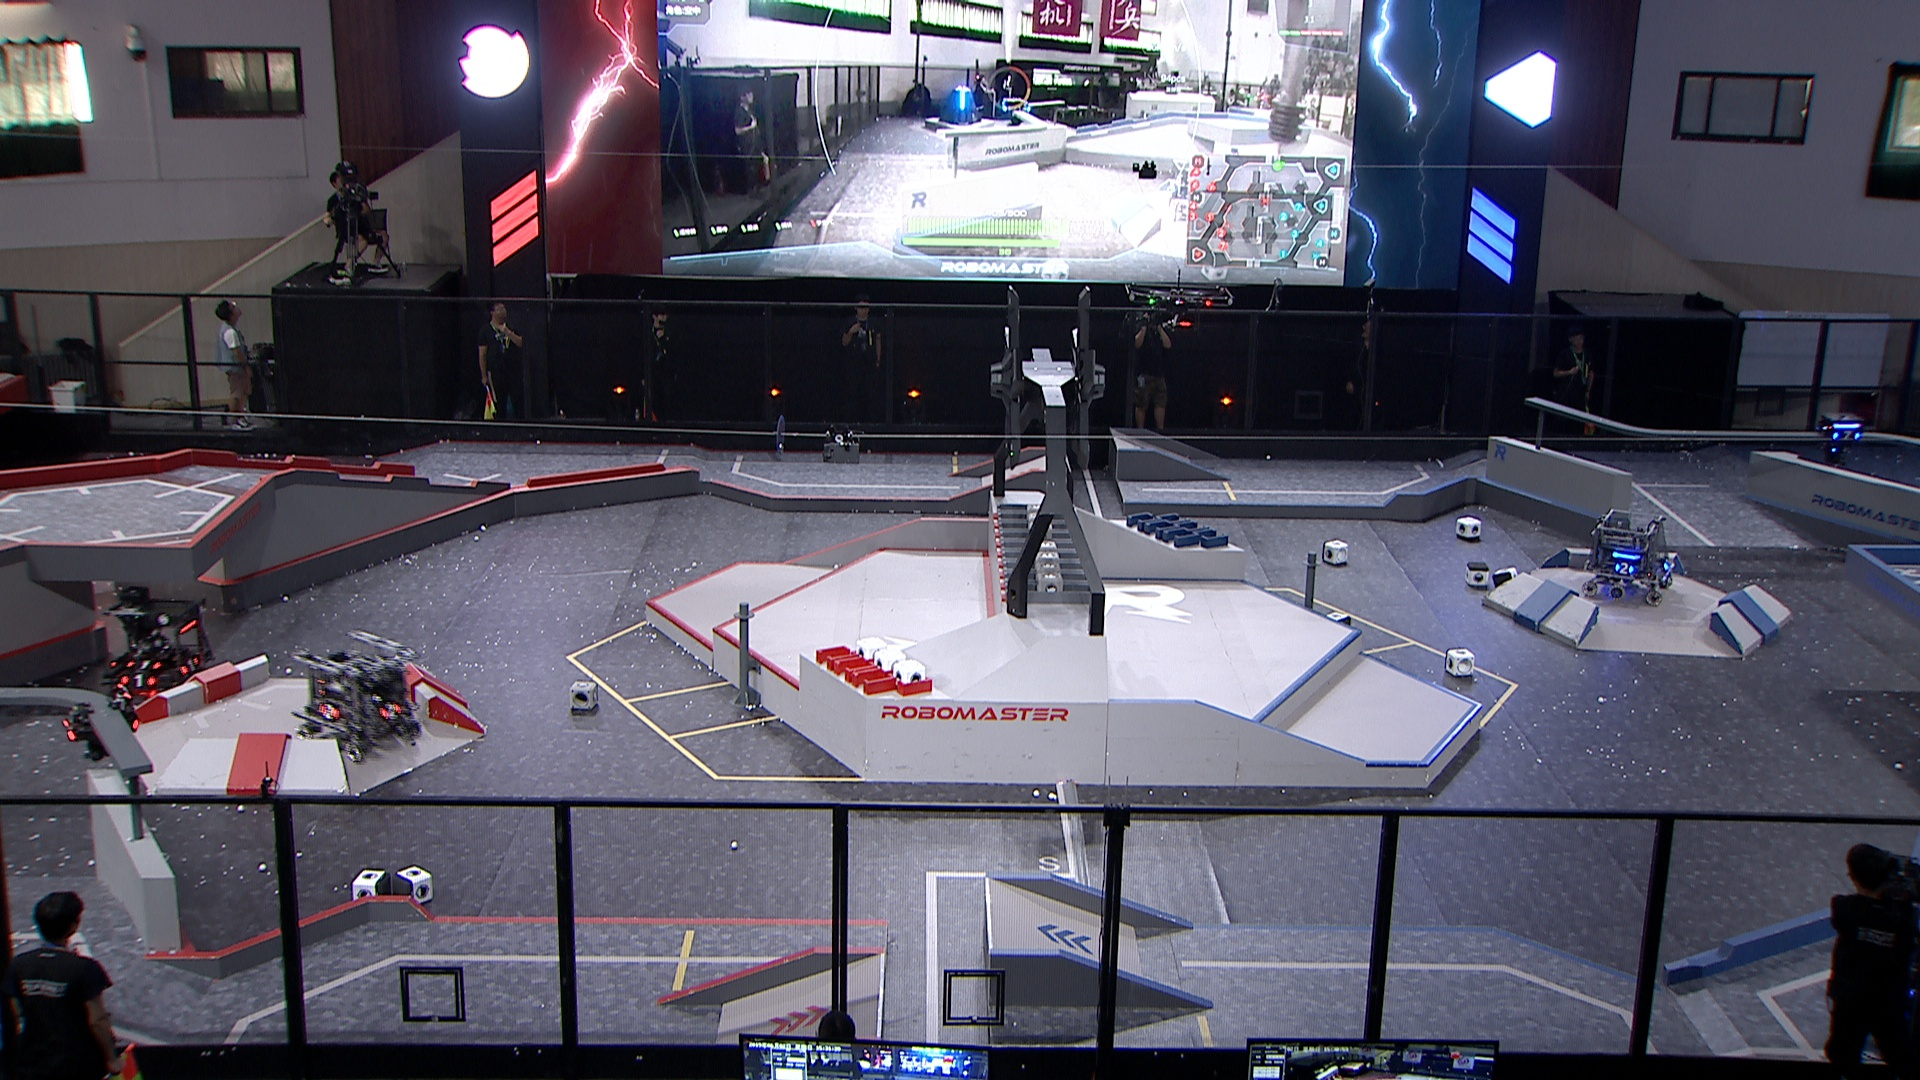armor: (373, 698, 404, 723), (119, 671, 157, 690), (127, 655, 164, 671), (59, 716, 79, 745), (315, 702, 340, 723), (181, 654, 202, 678), (1832, 427, 1865, 442), (1611, 560, 1638, 578), (1660, 553, 1676, 574)
car: (291, 632, 425, 760), (102, 589, 212, 698), (1585, 508, 1680, 603)
ignore: (938, 86, 984, 127), (996, 95, 1033, 128)
watcher: (58, 687, 142, 765), (1816, 409, 1869, 467)
